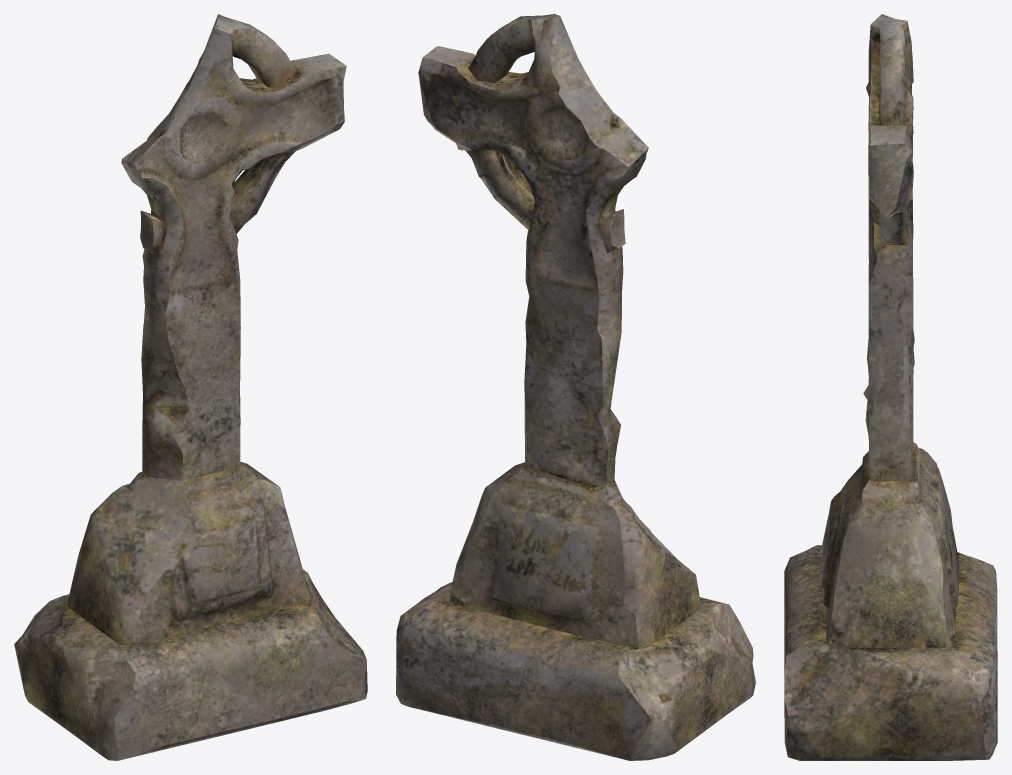
The model's file is SM_TombStone07.FBX.
3 views of the same model, side by side, from view 1: azimuth 30°, elevation 25°; view 2: azimuth 150°, elevation 25°; view 3: azimuth 270°, elevation 25° (orthographic). The views are drawn at different scales.
Parts seen in each view (by area): view 1: SM_TombStone07; view 2: SM_TombStone07; view 3: SM_TombStone07.
Part boxes in pixels (<box>): SM_TombStone07: <box>14,14,367,760</box>; SM_TombStone07: <box>396,14,755,760</box>; SM_TombStone07: <box>784,14,997,760</box>.
Size of the model in its own units: 105 by 66.28 by 238.
